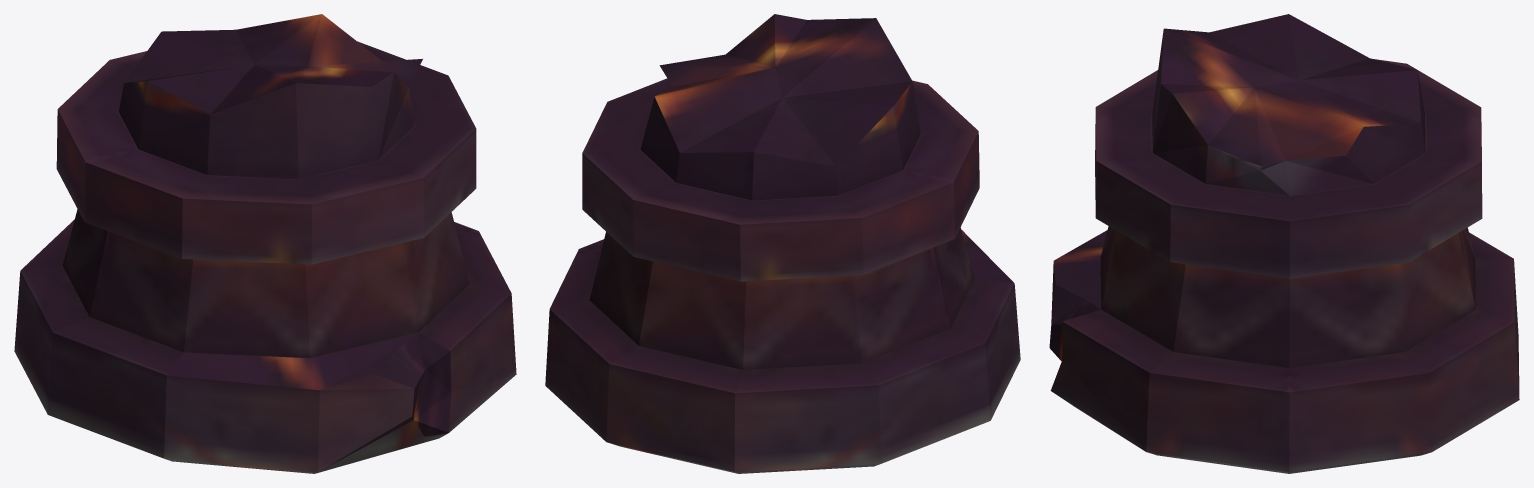
The model's file is JJC03_07.FBX.
3 views of the same model, side by side, from view 1: azimuth 30°, elevation 25°; view 2: azimuth 150°, elevation 25°; view 3: azimuth 270°, elevation 25° (orthographic). The views are drawn at different scales.
Parts seen in each view (by area): view 1: JJC03_07; view 2: JJC03_07; view 3: JJC03_07.
Part boxes in pixels (<box>): JJC03_07: <box>14,14,516,473</box>; JJC03_07: <box>545,14,1020,473</box>; JJC03_07: <box>1049,14,1519,473</box>.
Size of the model in its own units: 4.01 by 3.05 by 3.88.
